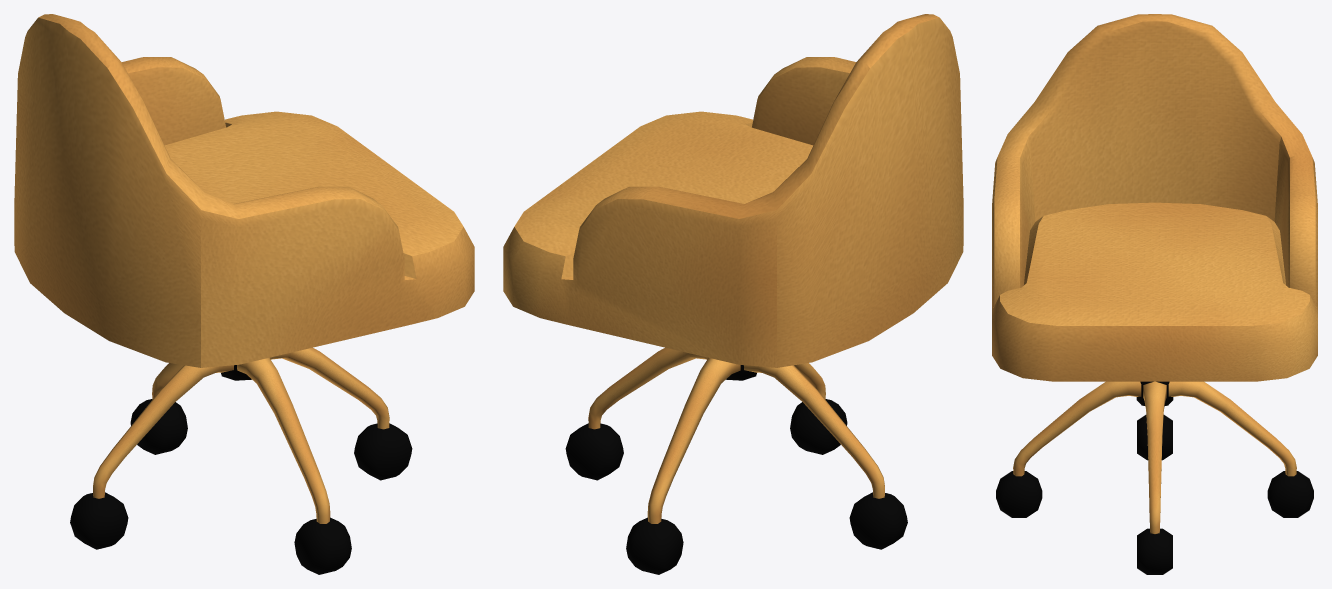
File: deskChair.glb
3 views of the same model, side by side, from view 1: azimuth 30°, elevation 25°; view 2: azimuth 150°, elevation 25°; view 3: azimuth 270°, elevation 25° (orthographic). The views are drawn at different scales.
Parts seen in each view (by area): view 1: desk_Chair; view 2: desk_Chair; view 3: desk_Chair.
Part boxes in pixels (<box>): desk_Chair: <box>14,14,474,574</box>; desk_Chair: <box>503,14,963,574</box>; desk_Chair: <box>992,14,1317,574</box>.
Size of what is drawn, in the model's own units: 0.7283 by 1.05 by 0.7161.
Materials: 2 (1 with a texture image).
